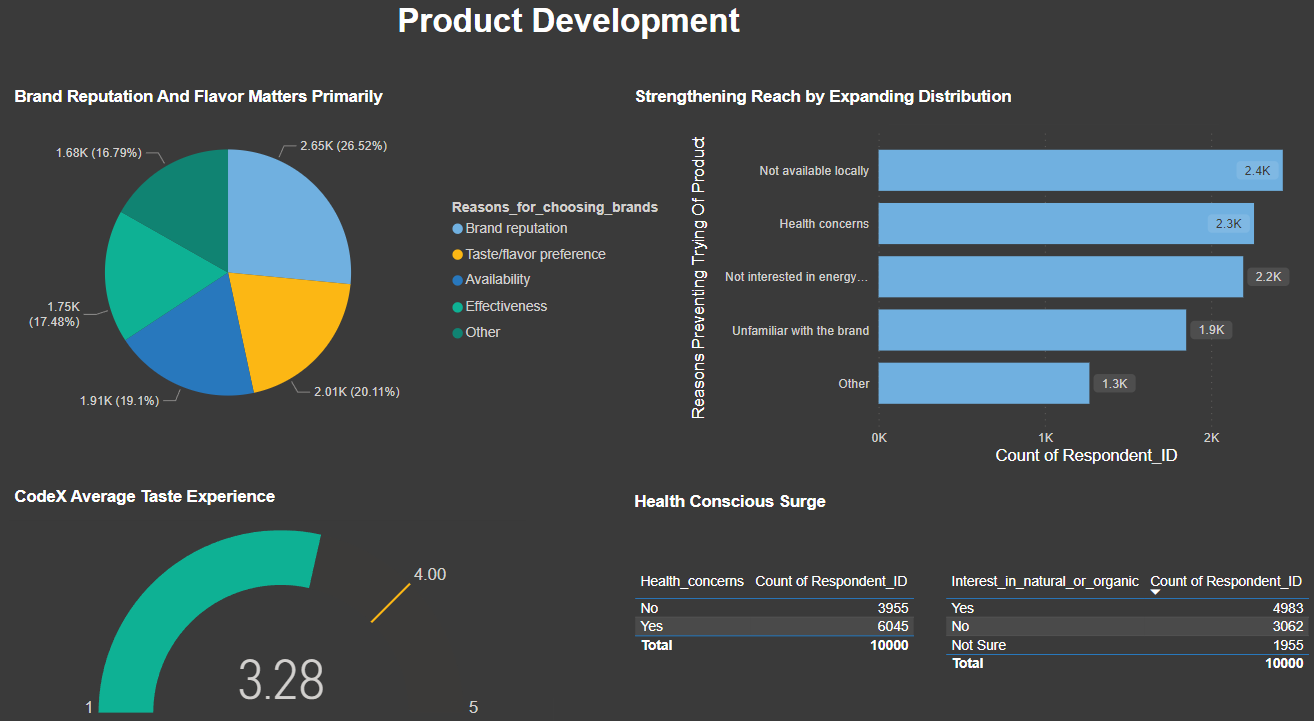

What the dashboard file says about the page in this screenshot:
{"tool":"powerbi","page":{"name":"Product Development","canvas":[1280,720],"ordinal":4},"visuals":[{"type":"pieChart","fields":{"Category":["fact_survey_responses.Reasons_for_choosing_brands"],"Y":["CountNonNull(fact_survey_responses.Respondent_ID)"]},"box":[7.7,113,641.4,342.9],"z":0},{"type":"textbox","box":[387.4,18.4,481.1,54.1],"z":1000},{"type":"barChart","fields":{"Y":["CountNonNull(fact_survey_responses.Respondent_ID)"],"Category":["fact_survey_responses.Reasons_preventing_trying"]},"box":[670.4,132.3,609.6,342],"z":2000},{"type":"gauge","fields":{"Y":["Avg(fact_survey_responses.Taste_experience)"],"MinValue":["Min(fact_survey_responses.Taste_experience)1"],"MaxValue":["Max(fact_survey_responses.Taste_experience)2"]},"box":[17.4,528.4,525.5,191.3],"z":3000},{"type":"tableEx","fields":{"Values":["fact_survey_responses.Health_concerns","fact_survey_responses.Respondent_ID"]},"box":[616.3,569,300.4,106.3],"z":4000},{"type":"tableEx","fields":{"Values":["fact_survey_responses.Interest_in_natural_or_organic","fact_survey_responses.Respondent_ID"]},"box":[916.8,569,363.2,150.7],"z":5000},{"type":"textbox","box":[616.3,488.8,273.4,31.9],"z":6000},{"type":"textbox","box":[17.4,486.9,499.4,36.7],"z":7000},{"type":"textbox","box":[616.3,100.5,570,40.6],"z":8000},{"type":"textbox","box":[17.4,100.5,442.4,53.1],"z":9000}]}

Visuals, with their boxes in screenshot pixels (x1, y1, x2, y2), scaled from the page's 1280x720 canvas onto the 1314x721 screenshot:
pieChart - fact_survey_responses.Reasons_for_choosing_brands x CountNonNull(fact_survey_responses.Respondent_ID): <bbox>8, 113, 666, 457</bbox>
textbox: <bbox>398, 18, 892, 73</bbox>
barChart - CountNonNull(fact_survey_responses.Respondent_ID) x fact_survey_responses.Reasons_preventing_trying: <bbox>688, 132, 1313, 475</bbox>
gauge - Avg(fact_survey_responses.Taste_experience) x Min(fact_survey_responses.Taste_experience)1: <bbox>18, 529, 557, 720</bbox>
tableEx - fact_survey_responses.Health_concerns x fact_survey_responses.Respondent_ID: <bbox>633, 570, 941, 676</bbox>
tableEx - fact_survey_responses.Interest_in_natural_or_organic x fact_survey_responses.Respondent_ID: <bbox>941, 570, 1313, 720</bbox>
textbox: <bbox>633, 489, 913, 521</bbox>
textbox: <bbox>18, 488, 531, 524</bbox>
textbox: <bbox>633, 101, 1218, 141</bbox>
textbox: <bbox>18, 101, 472, 154</bbox>
